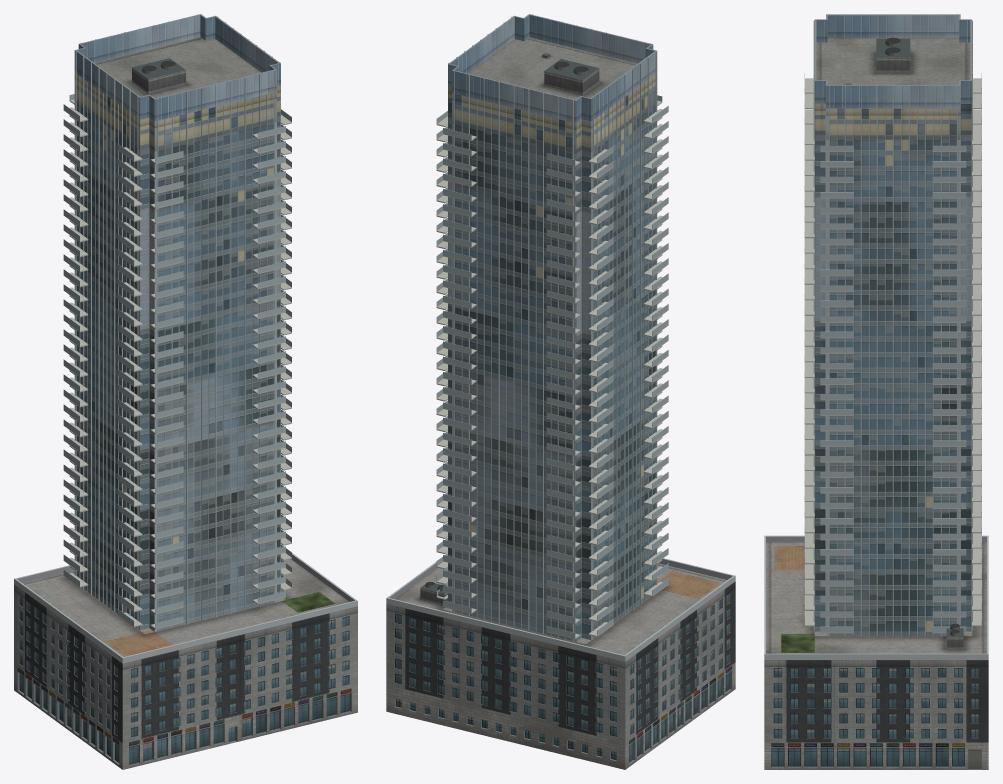
The model's file is seattle_condotower_b.glb.
3 renders of one model, left to right at view 1: azimuth 30°, elevation 25°; view 2: azimuth 150°, elevation 25°; view 3: azimuth 270°, elevation 25°, orthographic. The views are drawn at different scales.
Parts seen in each view (by area): view 1: seattle_condotower_b; view 2: seattle_condotower_b; view 3: seattle_condotower_b.
Part boxes in pixels (bbox=[...]): seattle_condotower_b: bbox=[14, 14, 357, 769]; seattle_condotower_b: bbox=[386, 14, 735, 769]; seattle_condotower_b: bbox=[764, 14, 988, 769].
Size of the model in its own units: 50 by 130 by 40.
1 material, 1 textured.
